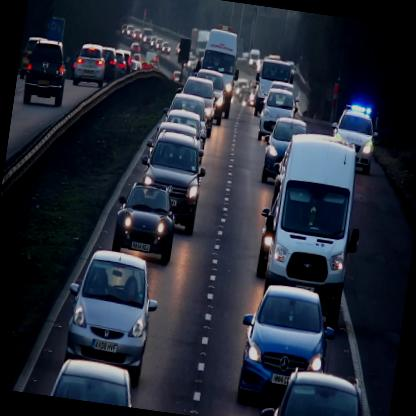car: (56, 246, 164, 389), (232, 280, 342, 412), (134, 128, 209, 234), (110, 181, 180, 262), (325, 106, 381, 176), (21, 38, 70, 108), (260, 115, 308, 184), (172, 75, 219, 133), (256, 86, 298, 146), (162, 89, 210, 138), (190, 68, 226, 126), (71, 42, 108, 88)
truck: (260, 129, 364, 334), (194, 26, 242, 122), (252, 58, 290, 120)
